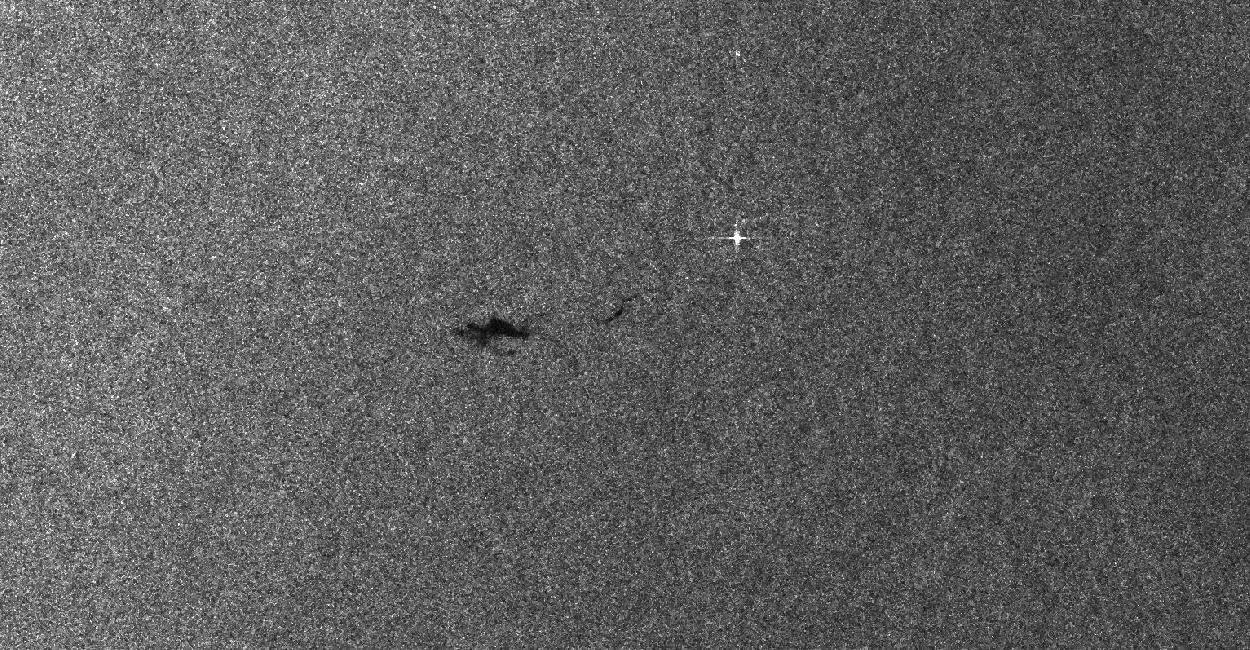Oil Spill: (446, 308, 550, 358), (598, 292, 638, 330), (500, 340, 520, 349)
